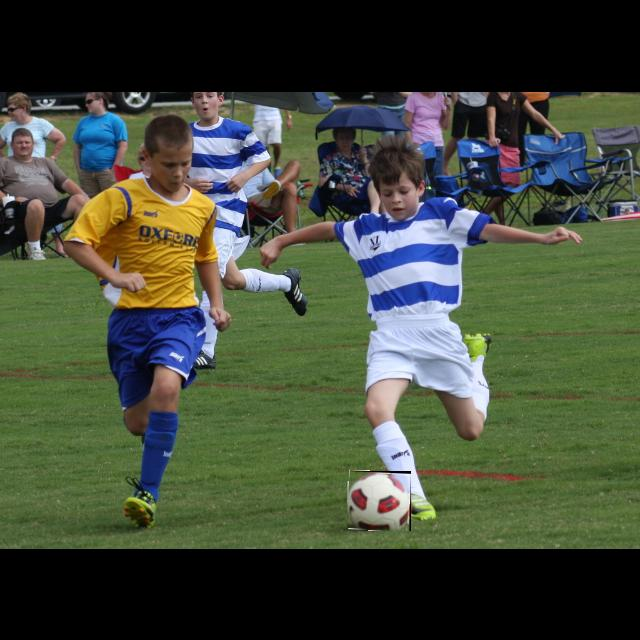Football: (347, 471, 411, 531)
